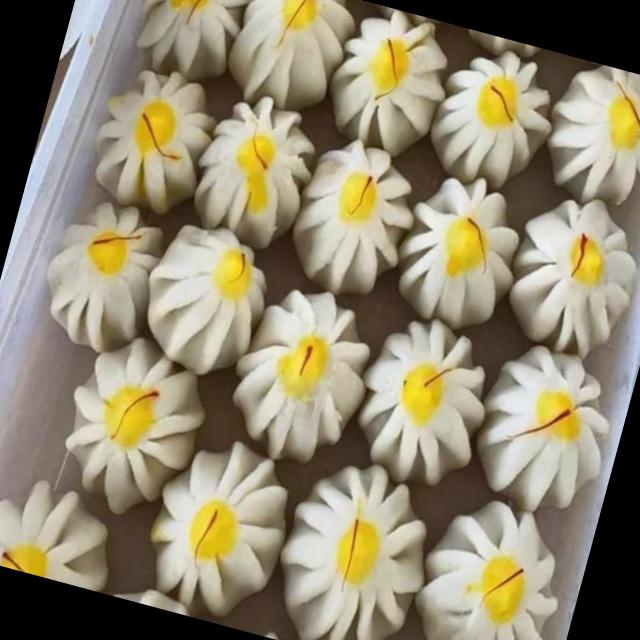modak: (463, 325, 640, 527), (30, 340, 218, 522), (342, 296, 508, 496), (260, 457, 441, 640), (228, 278, 384, 468), (492, 176, 640, 373), (175, 81, 332, 258), (134, 436, 289, 614), (66, 54, 219, 228), (404, 493, 583, 640), (130, 218, 282, 382), (26, 198, 176, 364), (286, 125, 421, 308), (382, 176, 531, 337), (416, 35, 564, 195), (320, 12, 455, 154), (529, 56, 640, 219), (212, 0, 349, 129), (126, 0, 252, 89)
